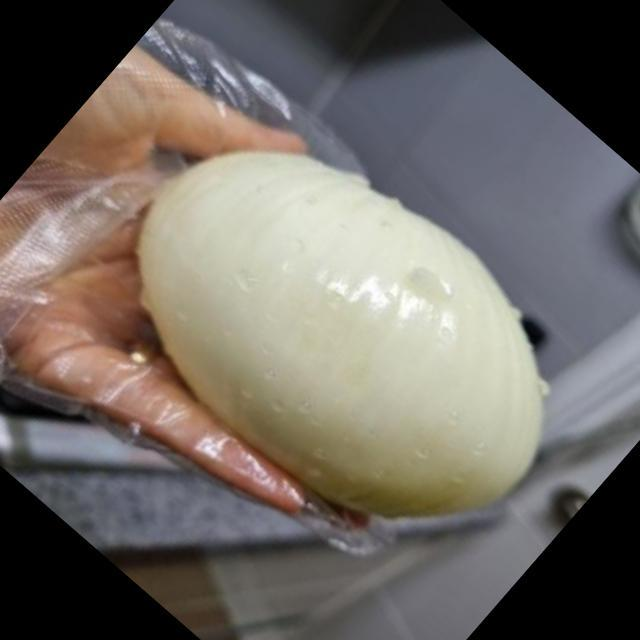Onion: (139, 151, 548, 515)
